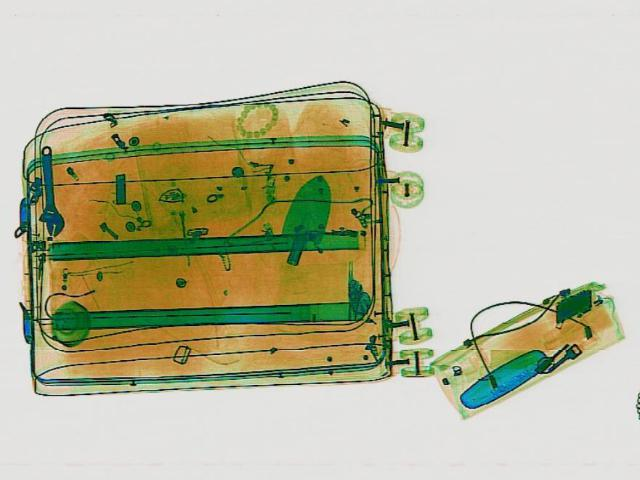Knife: (268, 170, 342, 266)
Wrench: (31, 143, 64, 235)
